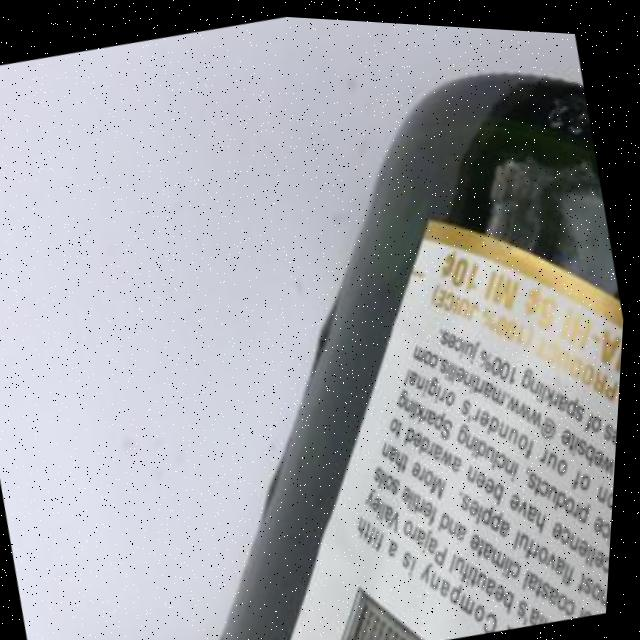glass: (82, 15, 640, 640)
